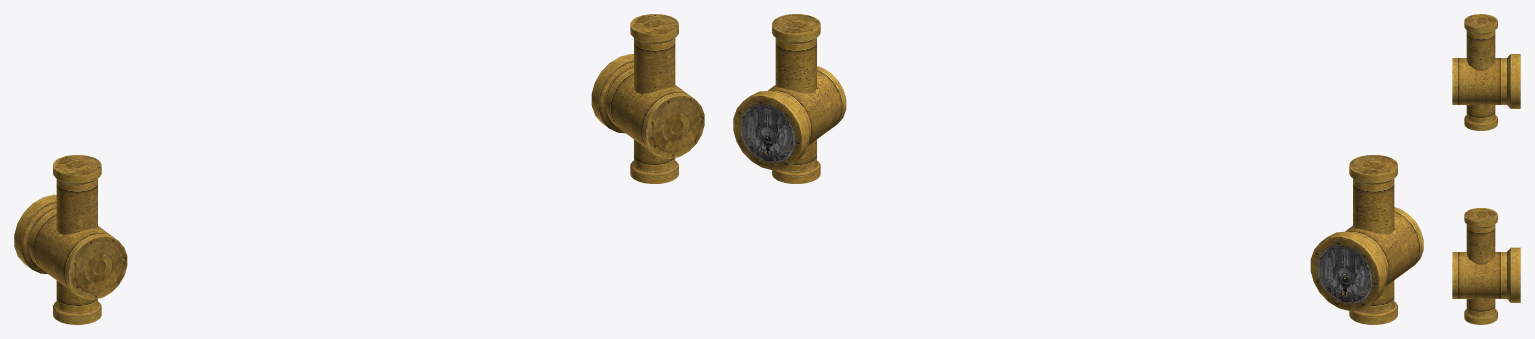
Rendered from truck_lights.DAE.
3 views of the same model, side by side, from view 1: azimuth 30°, elevation 25°; view 2: azimuth 150°, elevation 25°; view 3: azimuth 270°, elevation 25° (orthographic). The views are drawn at different scales.
Parts seen in each view (by area): view 1: Object081; view 2: Object081; view 3: Object081.
Part boxes in pixels (left/top/right/bottom): Object081: left=14, top=14, right=704, bottom=324; Object081: left=733, top=14, right=1423, bottom=324; Object081: left=1452, top=14, right=1520, bottom=324.
Bounding box in the file's own units: 2.82 × 0.6228 × 0.3737.
